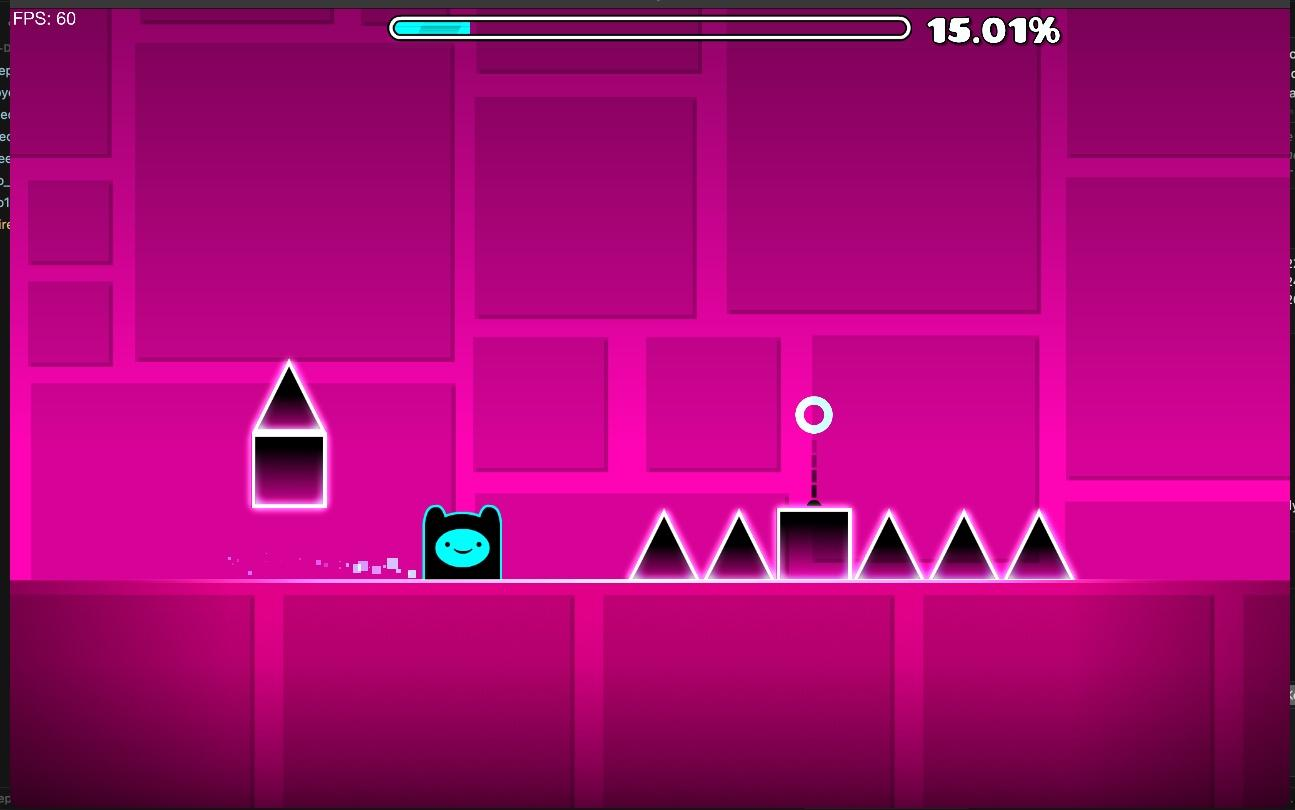platform: (776, 501, 851, 579)
player: (424, 505, 500, 578)
spike: (856, 510, 1073, 580), (252, 361, 327, 507), (630, 510, 773, 578)
